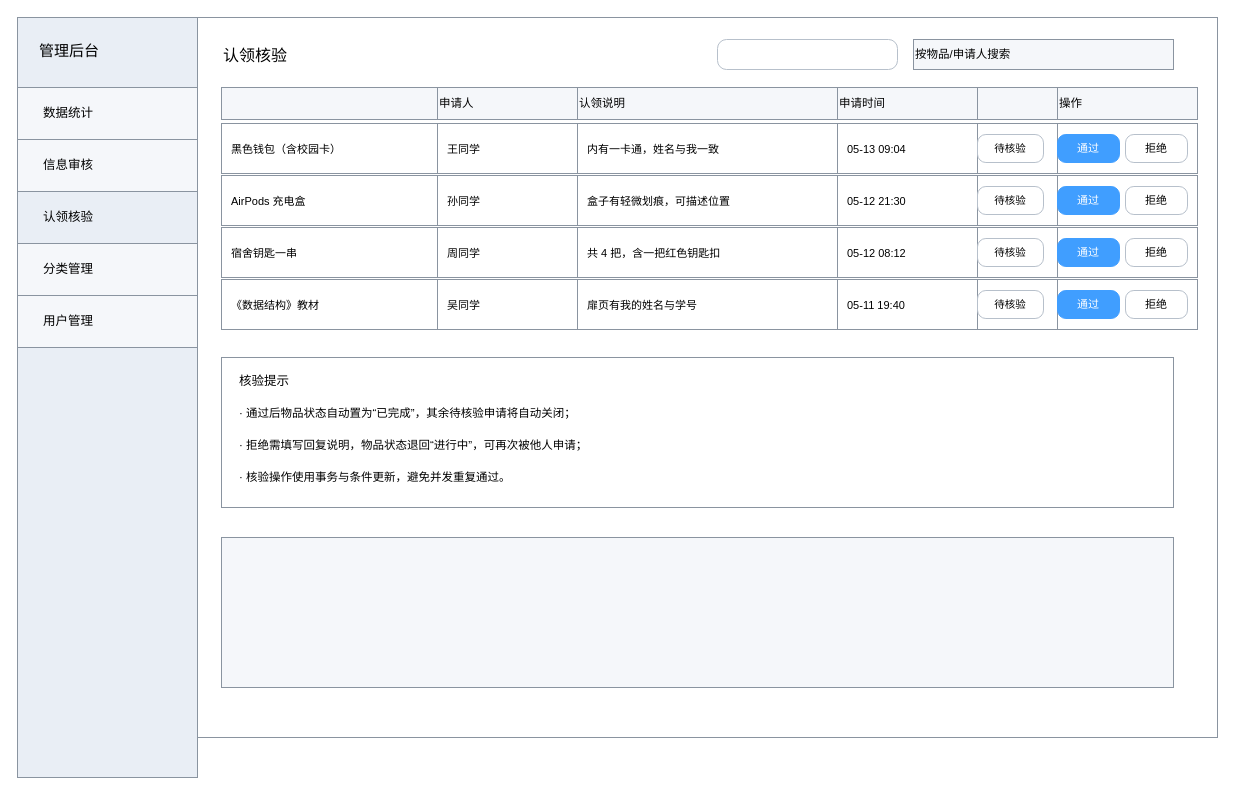
The diagram is 1235 pixels wide and 795 high, and some of its shapes have lost their labels. Each missing label, with the centre of its shape:
回复说明（可选，不超过 200 字）: point 697,612
待核验（下拉）: point 807,54
物品: point 329,103
状态: point 1017,103
